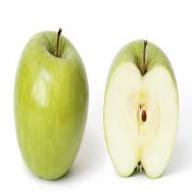apple: (102, 40, 180, 178), (17, 36, 84, 178)
